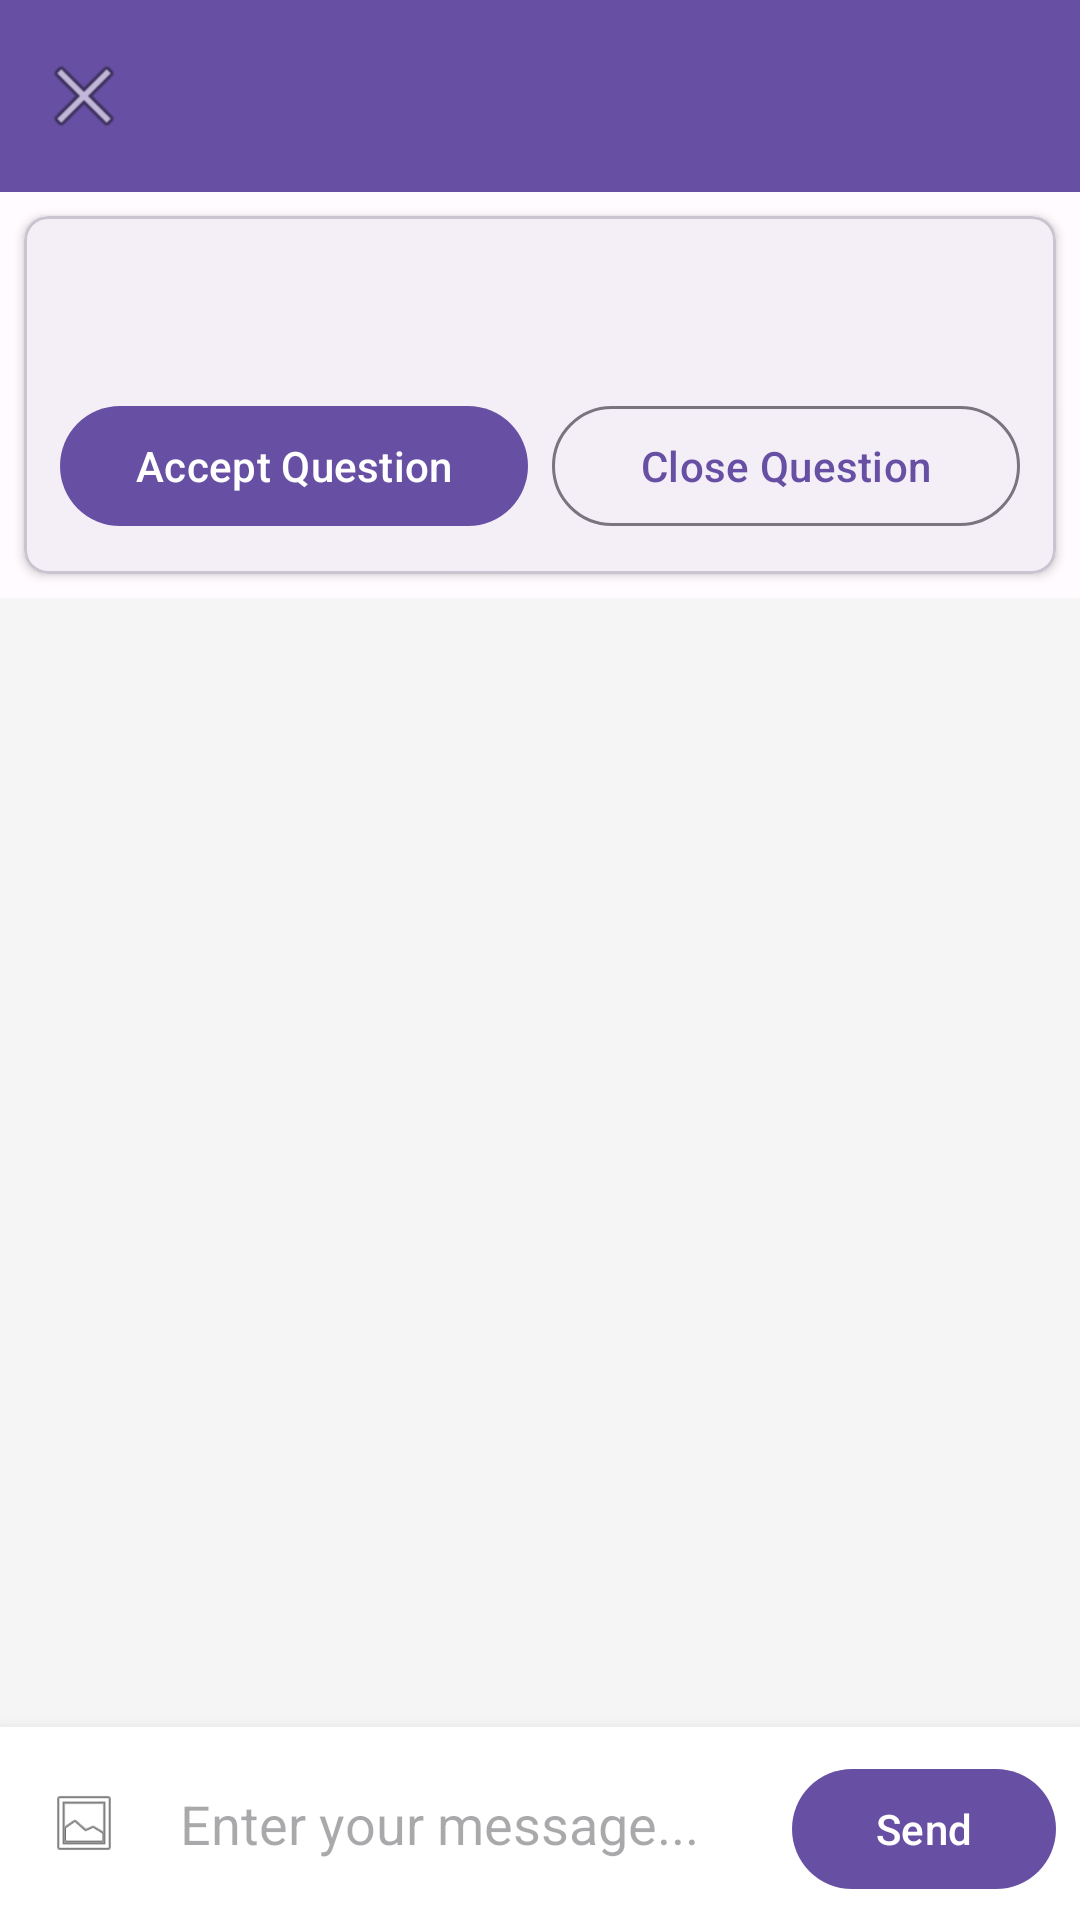

Named icons in this screenshot (1080px×1920px) and their centers, [x,y]:
Select image: [84,1823]
